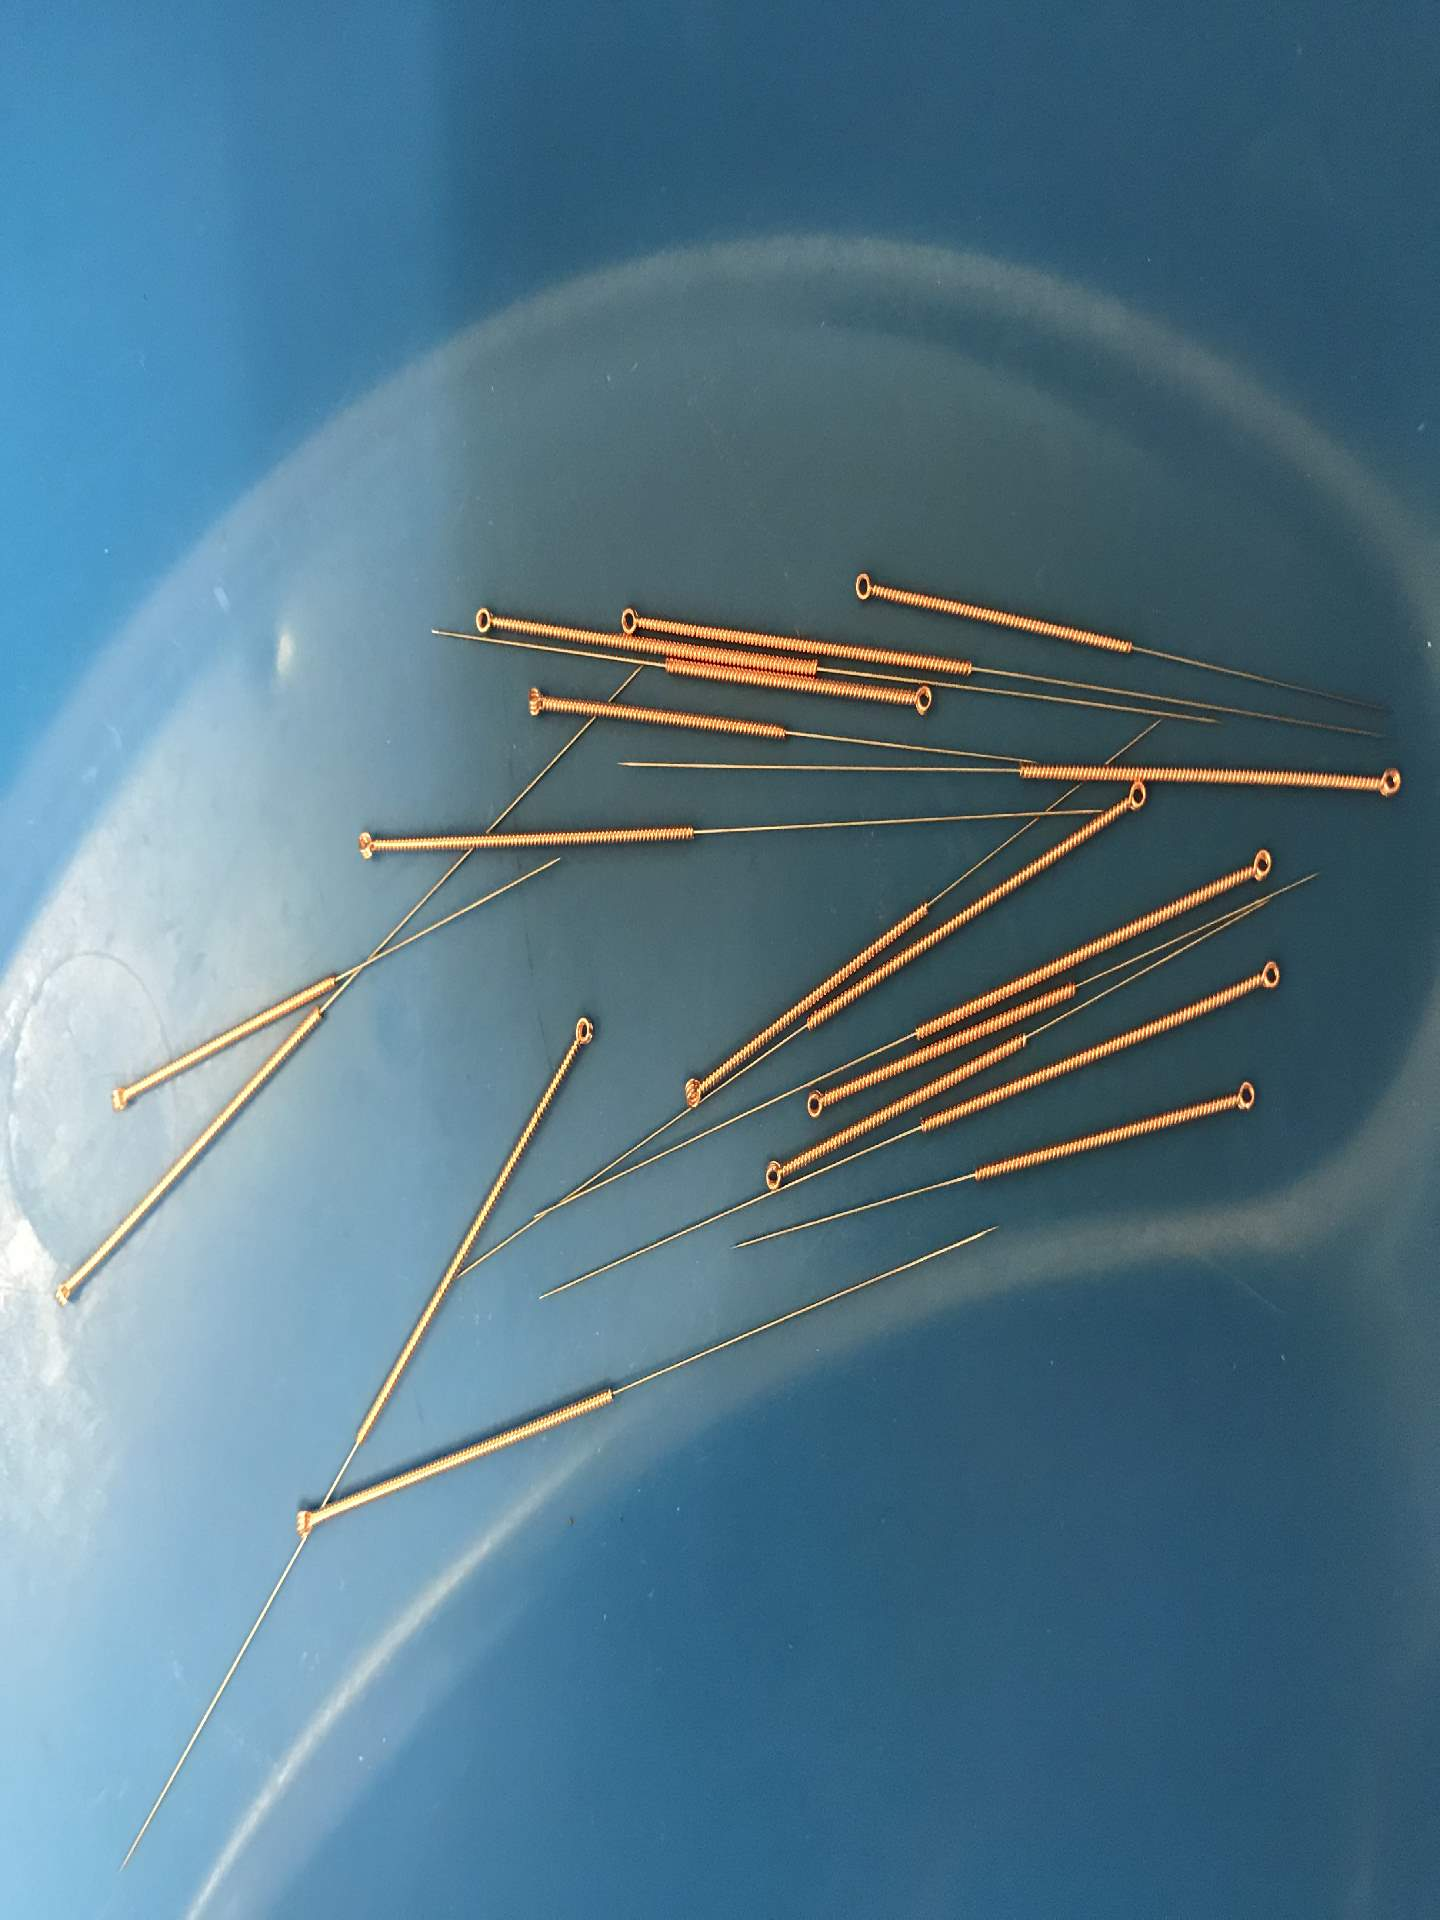needle: (1224, 1072, 1268, 1123), (1237, 842, 1281, 890), (1246, 952, 1289, 999), (1367, 759, 1408, 807), (755, 1150, 796, 1197), (843, 565, 885, 609), (675, 1069, 714, 1116), (100, 1075, 138, 1123), (466, 597, 504, 643), (348, 822, 386, 868), (286, 1501, 324, 1544), (514, 679, 551, 723), (564, 1010, 601, 1054), (903, 677, 939, 720), (1116, 776, 1153, 818), (799, 1082, 833, 1126), (45, 1271, 80, 1315), (613, 602, 649, 641)
